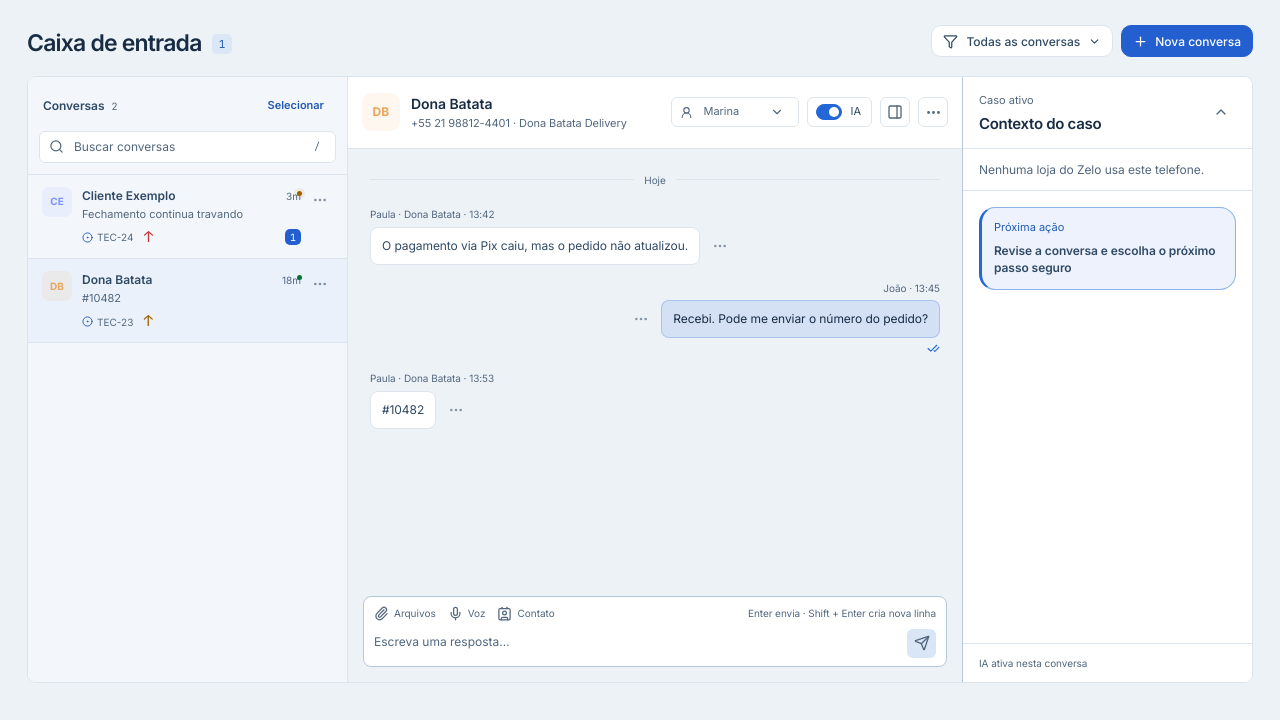
Test case: InboxPage new chat › marks where the unread messages start, even after the thread is read
Click the button with class "conversation-row-hit" that starts with "Cliente Exemplo".
click(166, 216)  # box [28,175,305,258]
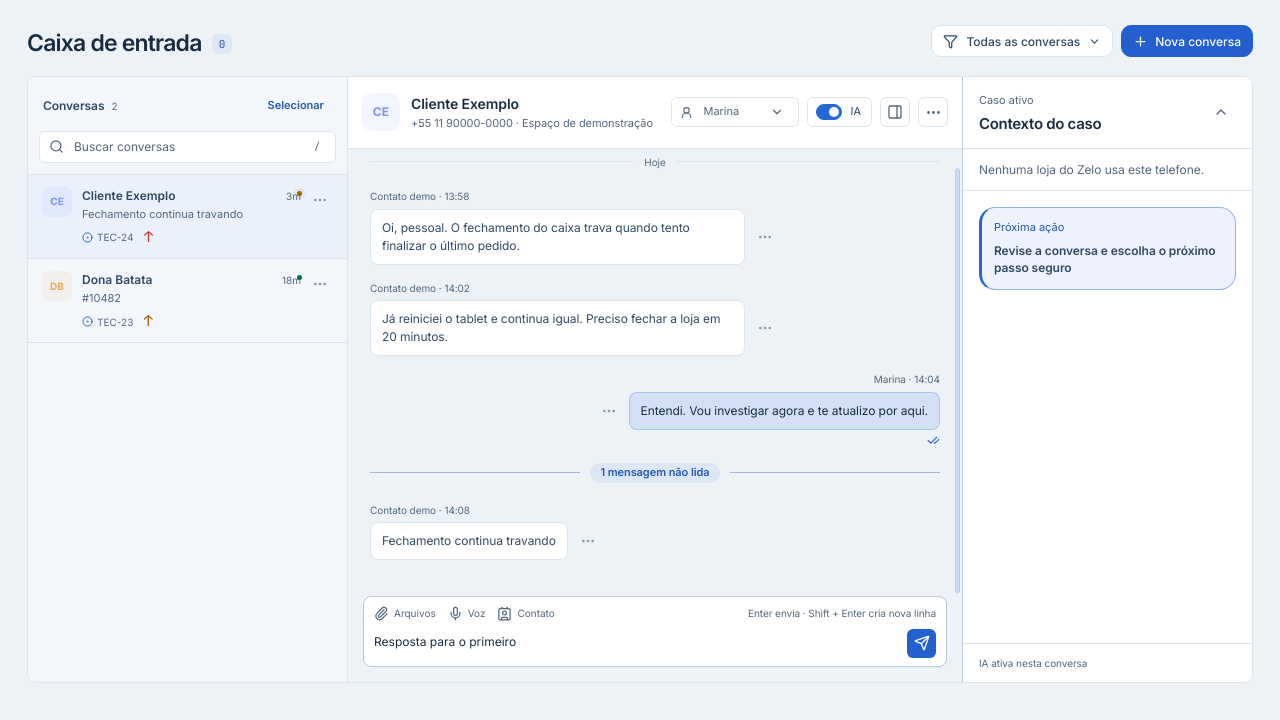
Check: the element with class "unread-divider" reads "1 mensagem não lida", box [600,465,710,479]
